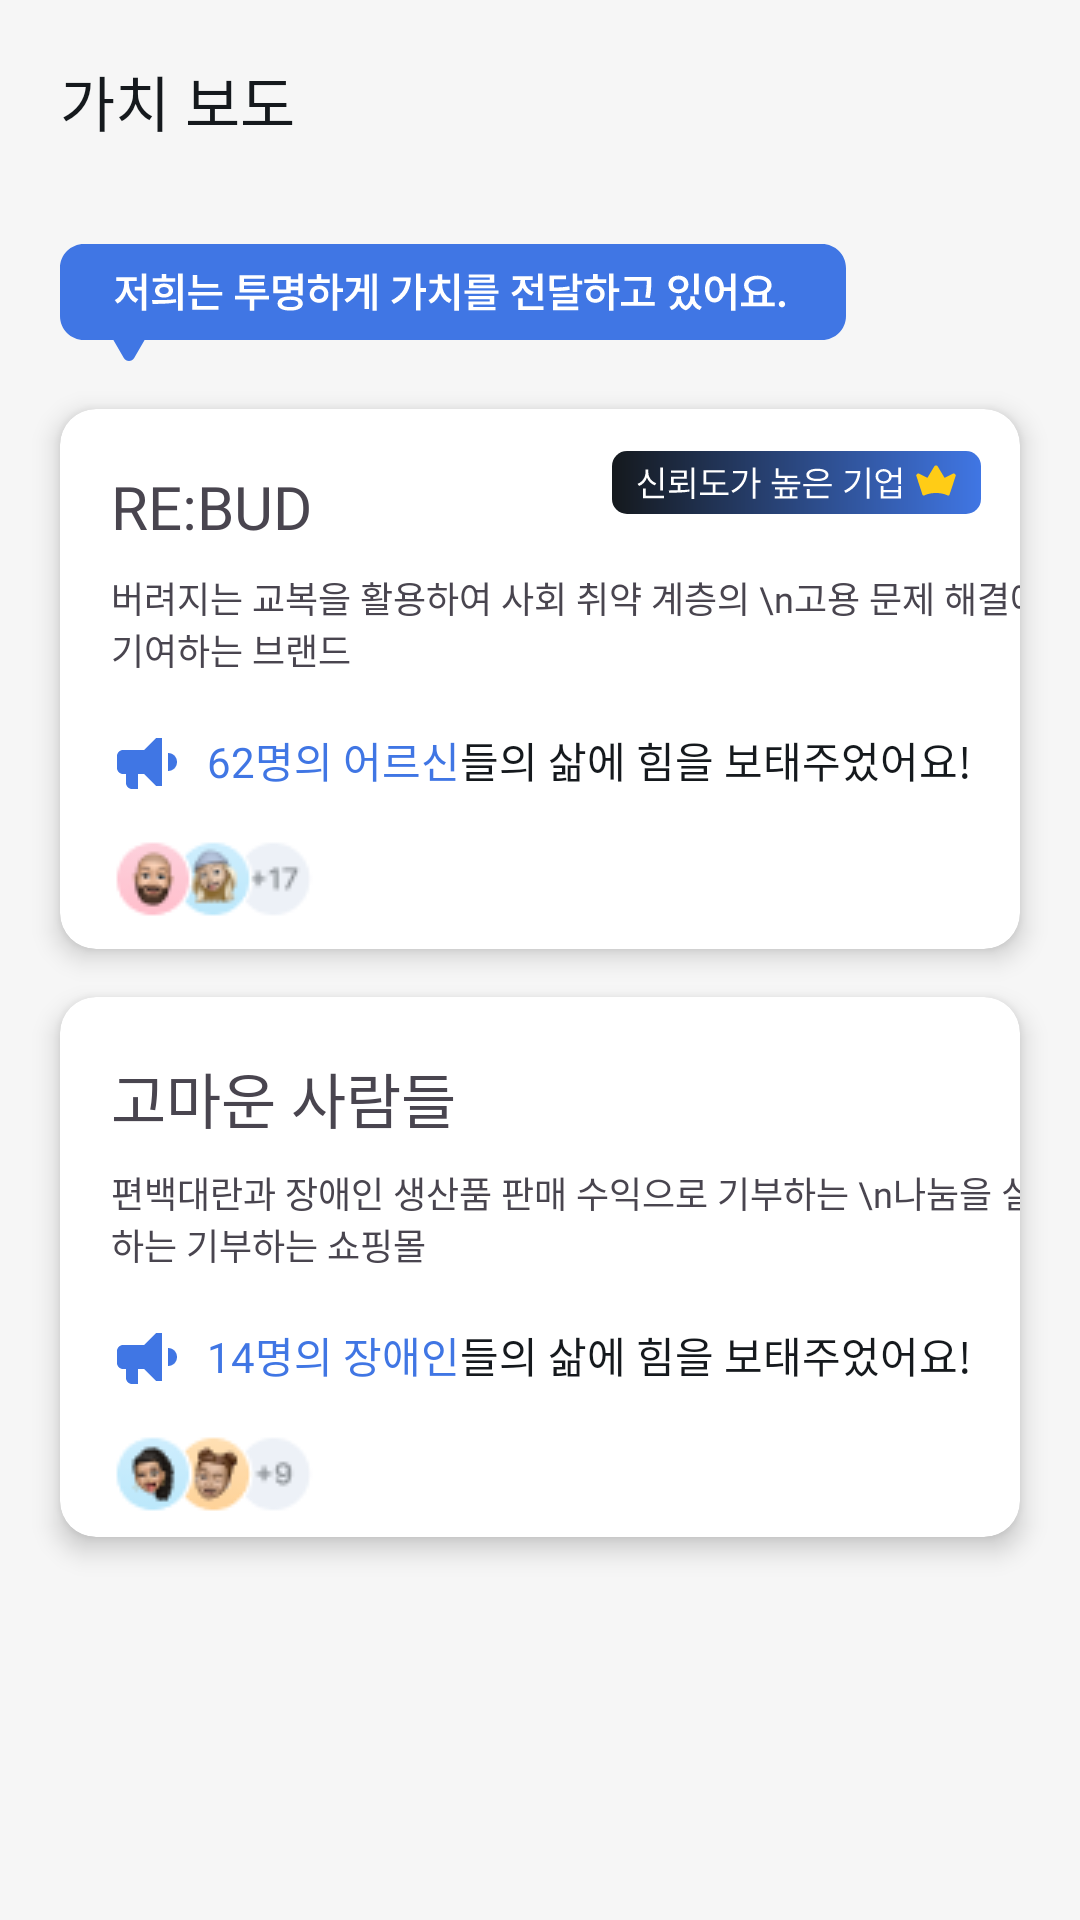

Icon bounding boxes for this 1080w x 1920h phone screenshot, format Rect(x1, y1, x2, y2):
people: Rect(117, 843, 300, 915), Rect(117, 1437, 294, 1511)
